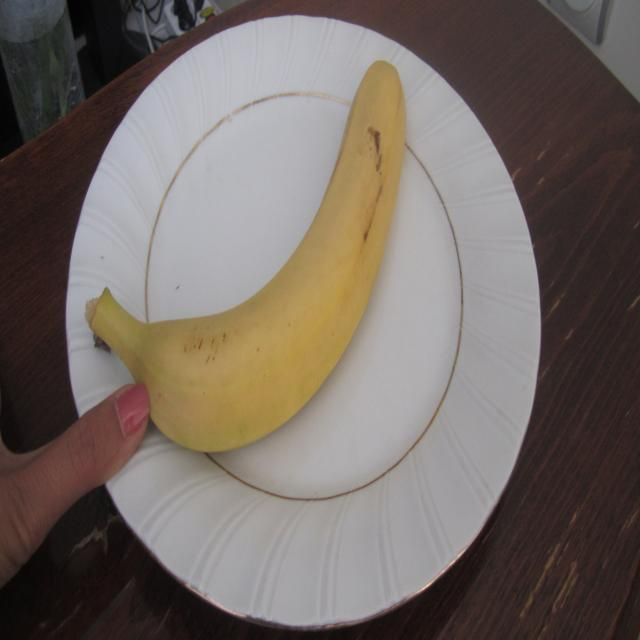Banana: (83, 58, 416, 463)
Finger: (57, 381, 162, 503)
